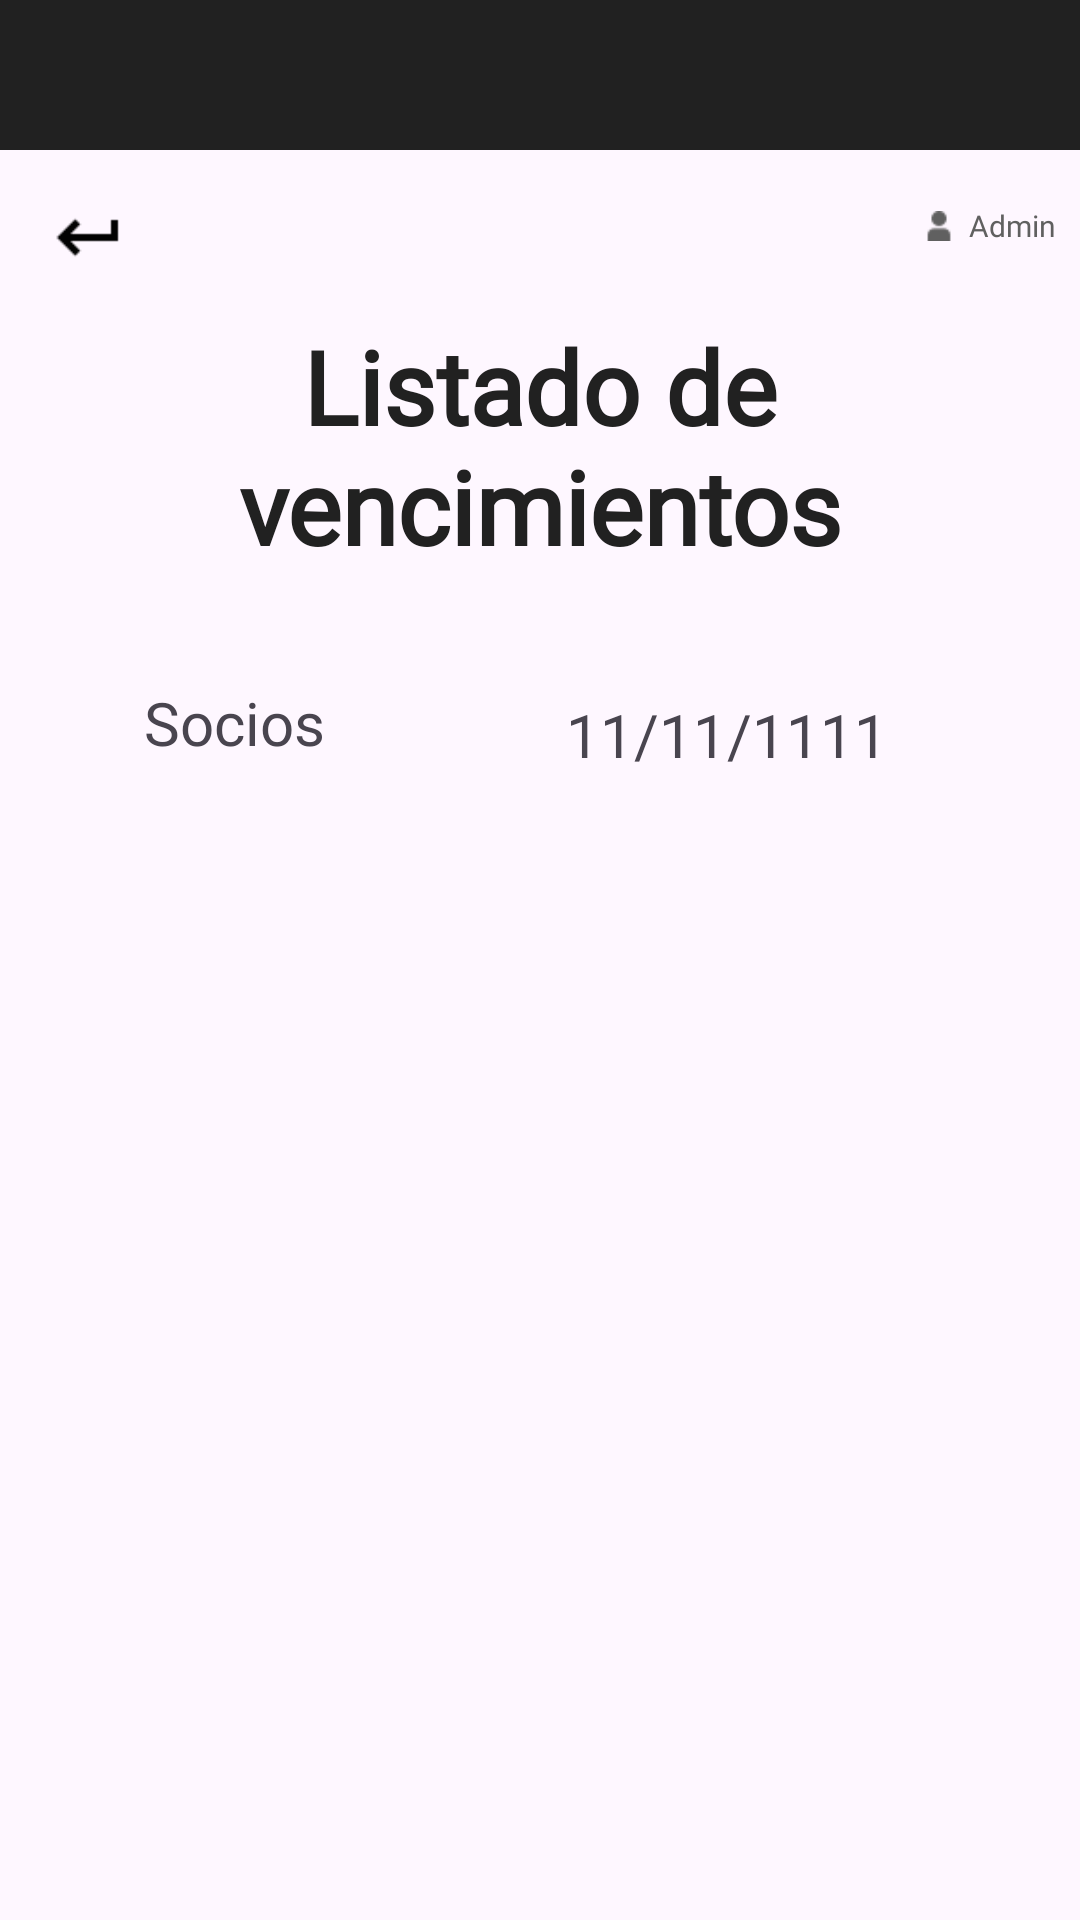

Where to tap for icons on this 1080px x 1920px app screen, as (x=x, y=y):
volver: (x=87, y=237)
